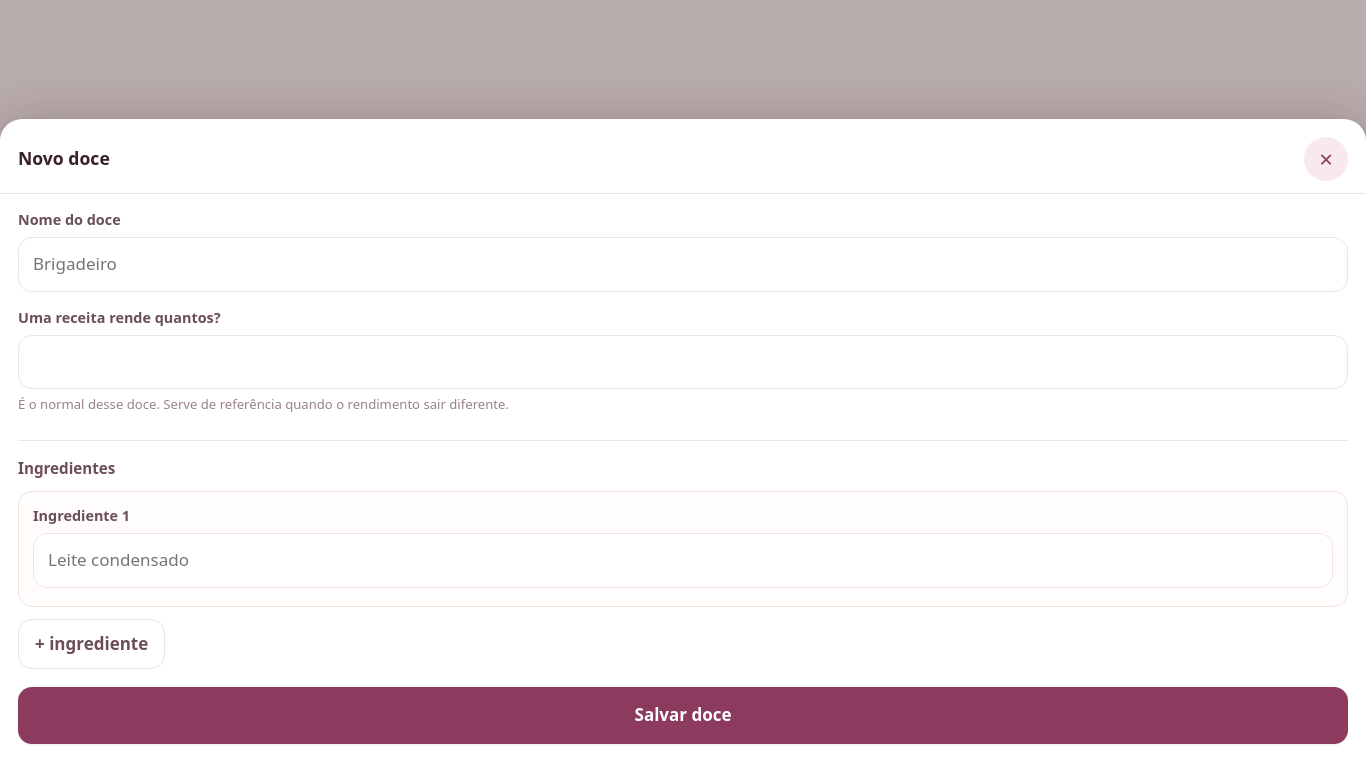
it: FolhaEditarDoce — cadastrar › remove linha de ingrediente
Click the button "+ ingrediente".
click(92, 644)  # box [18,619,165,669]
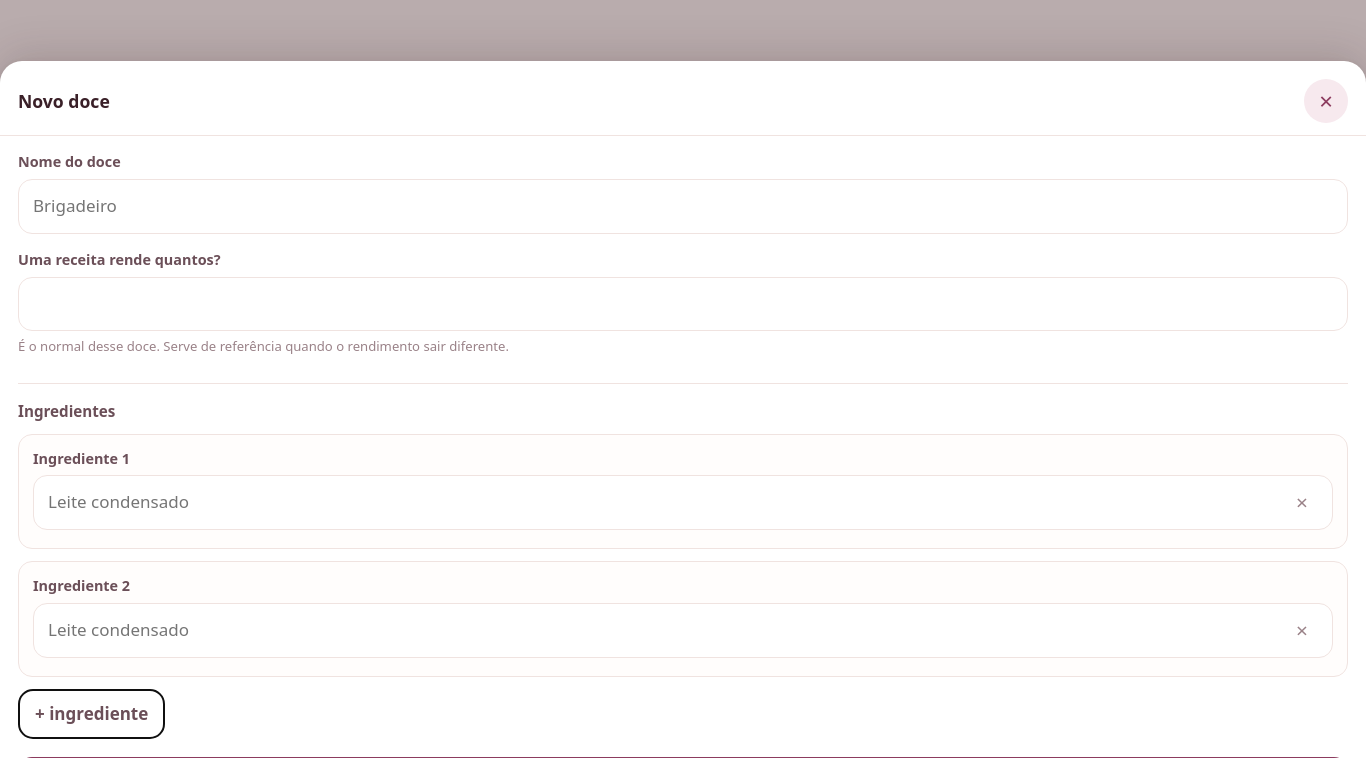
Click the button named "Tirar ingrediente 2".
click(1302, 630)  # box [1286,608,1318,652]
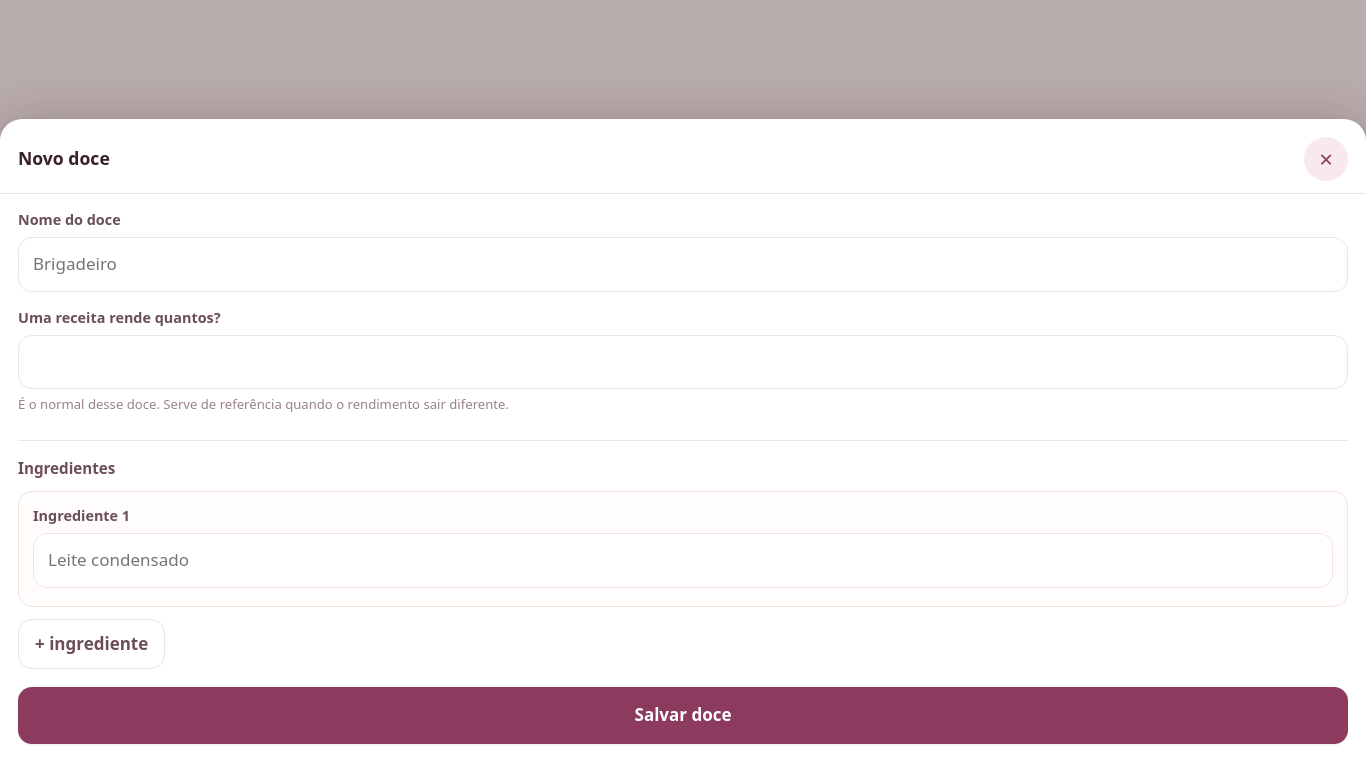
Now the label labelled "Ingrediente 2" is gone
